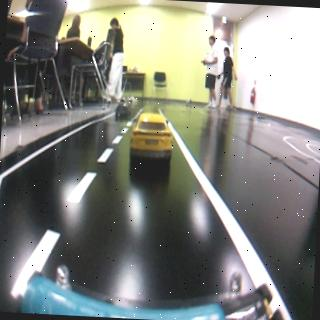car: (130, 112, 179, 167), (116, 102, 134, 122)
